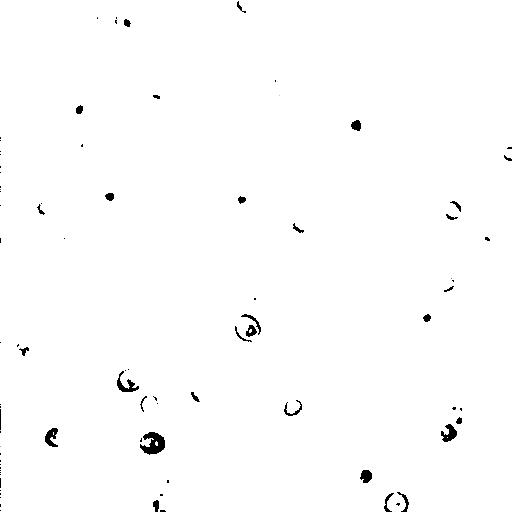micro-algae: (1, 58, 105, 168), (87, 433, 184, 512), (318, 72, 401, 156), (440, 74, 512, 147), (0, 38, 32, 130), (103, 376, 152, 424), (255, 0, 311, 40), (44, 329, 87, 371), (59, 484, 120, 512), (119, 312, 159, 352), (1, 145, 24, 212), (283, 204, 322, 243), (63, 0, 131, 22), (36, 218, 75, 256), (3, 396, 40, 434), (224, 465, 260, 502), (27, 190, 63, 225), (337, 109, 372, 145), (135, 355, 168, 390), (116, 6, 144, 40), (232, 313, 263, 343), (470, 229, 498, 261), (74, 134, 102, 165), (137, 432, 168, 456), (17, 470, 49, 493), (68, 96, 94, 124), (94, 184, 124, 208), (249, 404, 275, 430), (116, 368, 143, 393), (61, 220, 87, 245), (432, 269, 458, 294), (9, 339, 35, 364), (382, 490, 411, 512), (142, 493, 175, 512), (262, 68, 288, 92), (91, 4, 116, 28), (415, 304, 439, 329), (44, 426, 69, 449), (0, 118, 12, 164), (403, 0, 433, 18), (155, 472, 177, 496), (139, 393, 160, 417), (190, 382, 212, 404), (439, 422, 460, 444), (243, 284, 264, 306), (273, 93, 292, 115), (444, 199, 463, 221), (284, 398, 304, 416), (356, 467, 374, 486), (234, 0, 257, 14), (453, 410, 469, 430), (162, 0, 188, 10), (505, 106, 512, 138), (437, 68, 451, 83), (234, 193, 249, 207), (198, 0, 220, 8), (504, 146, 512, 163)
